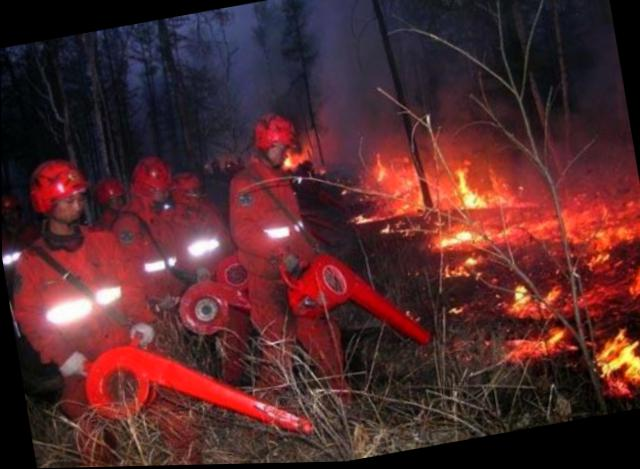fire: (361, 96, 639, 435)
